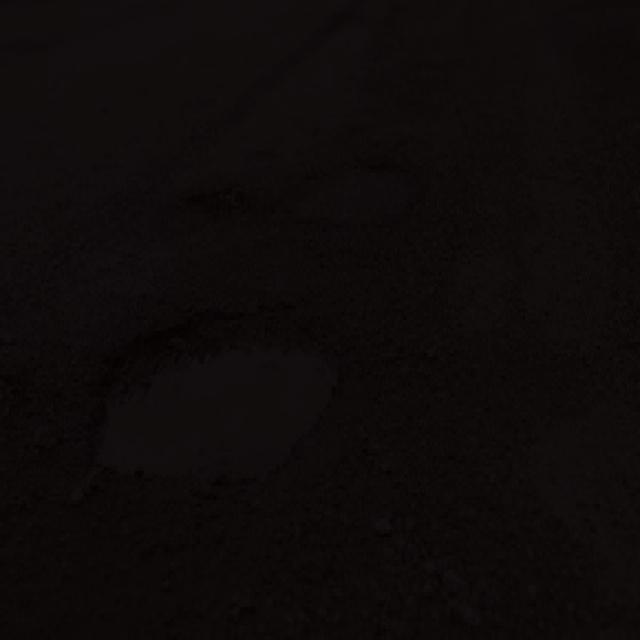Pothole: (83, 299, 360, 503), (287, 166, 428, 232), (166, 185, 257, 248)
